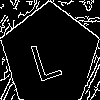L: (25, 30, 64, 83)
